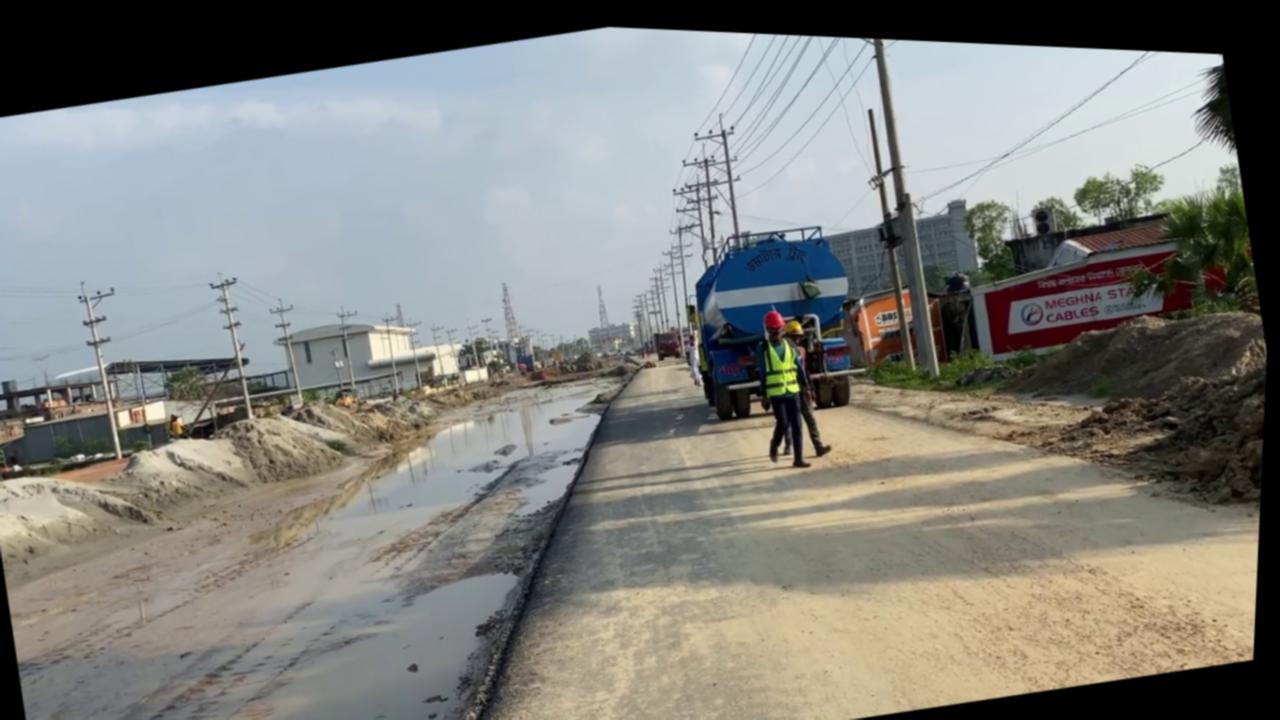Curb: (367, 339, 723, 720)
Pole: (846, 30, 954, 371), (854, 97, 927, 363), (70, 273, 148, 461), (204, 268, 266, 420)
Sidewalk: (0, 334, 706, 720)
Traffic-sign: (957, 184, 1023, 276)
Tree: (680, 210, 882, 430), (654, 322, 686, 355), (332, 381, 364, 408)
